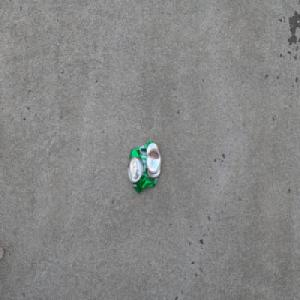SodaCan: (127, 139, 161, 194)
